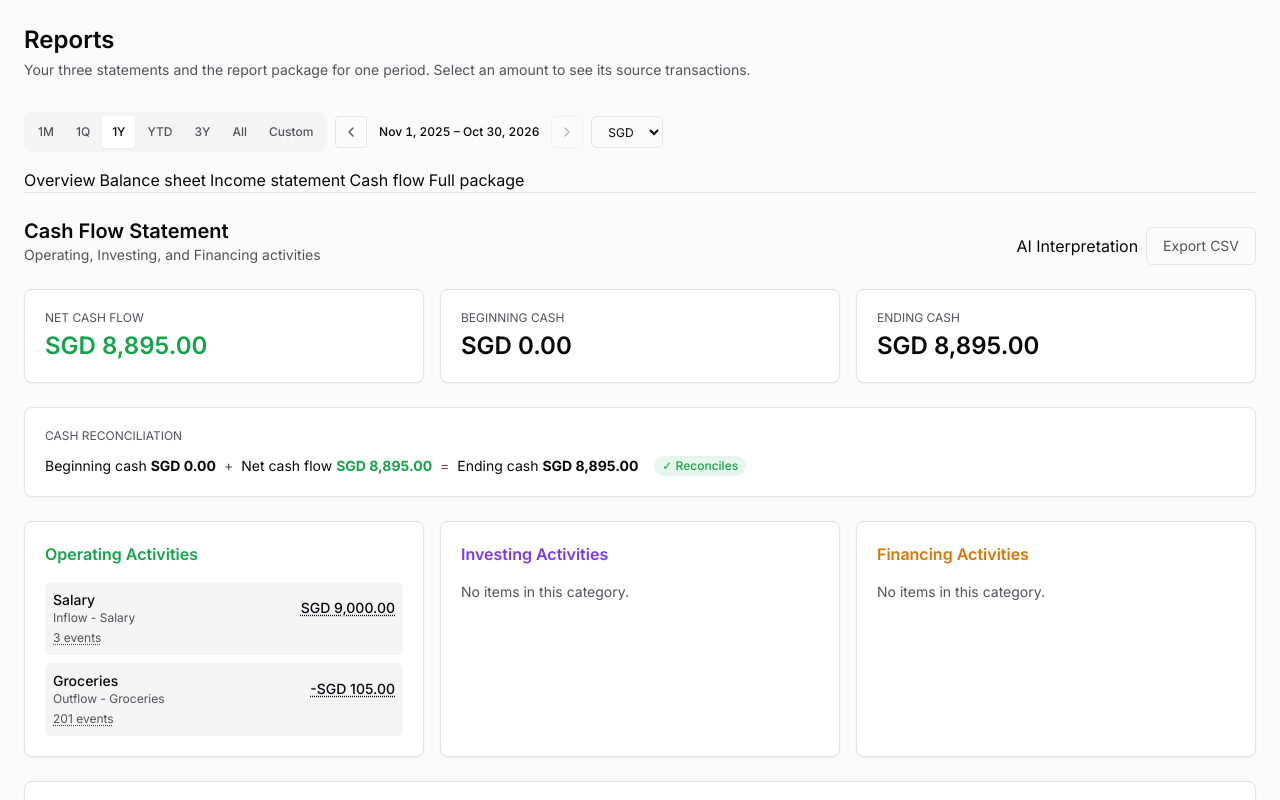
Test: CashFlowPage › AC-reporting.fe-fetch-budget.8 loads the events of a cash-flow line only after the user expands the line
The image size is (1280, 800).
Check: the button with aria-label "3 events for Inflow - Salary" reads "3 events", box top-left (53, 630), bottom-right (101, 646)
Check: the text "Salary" is shown, box top-left (53, 591), bottom-right (95, 608)
What coordinates should you click on to do the following:
click the button with aria-label "201 events for Outflow - Groceries"
I would click on:
 (83, 719)
Its box is top-left (53, 711), bottom-right (114, 727).
(page scrolled)
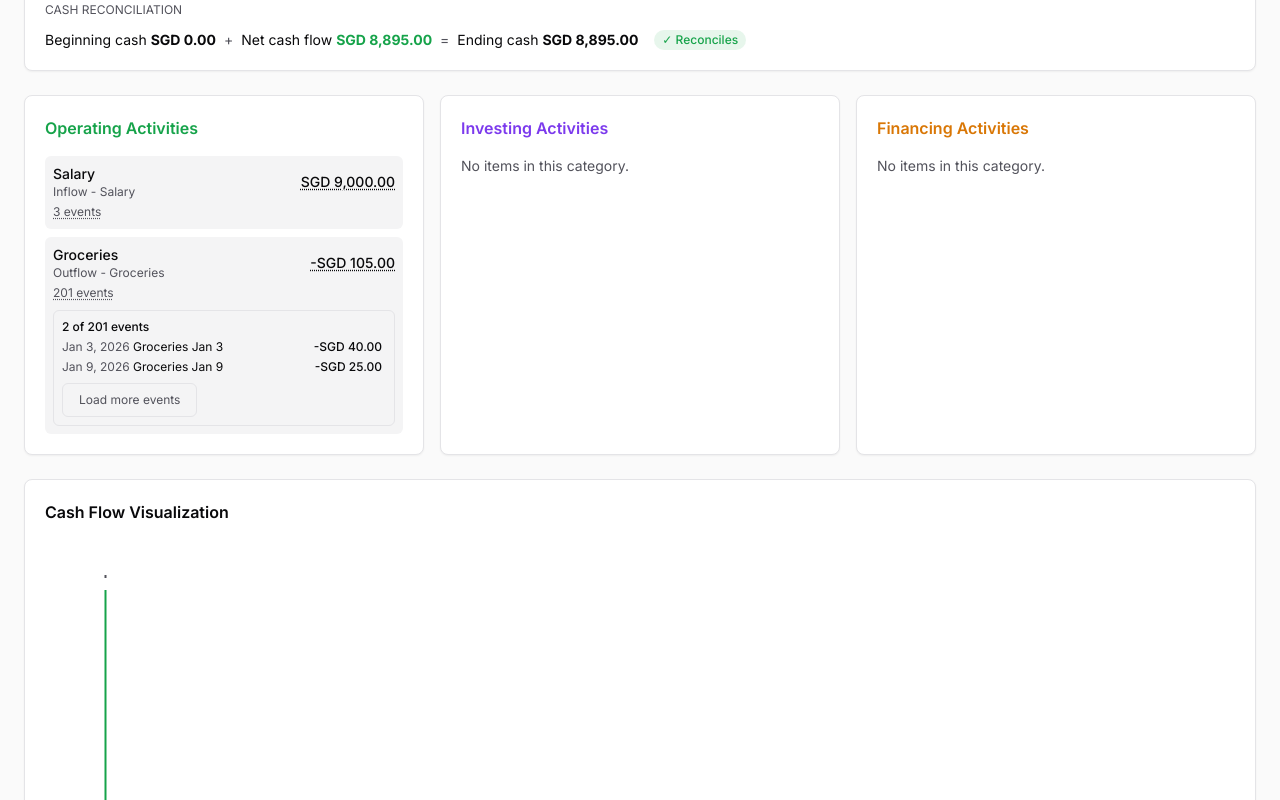
Check: the text "Groceries Jan 3" is shown, box top-left (133, 339), bottom-right (223, 354)
Check: the text "Groceries Jan 9" is shown, box top-left (133, 359), bottom-right (223, 374)
Check: the text "2 of 201 events" is shown, box top-left (62, 319), bottom-right (149, 334)
What coordinates should you click on to do the following:
click the button "Load more events"
I would click on:
 (130, 400)
Its box is top-left (62, 383), bottom-right (198, 417).
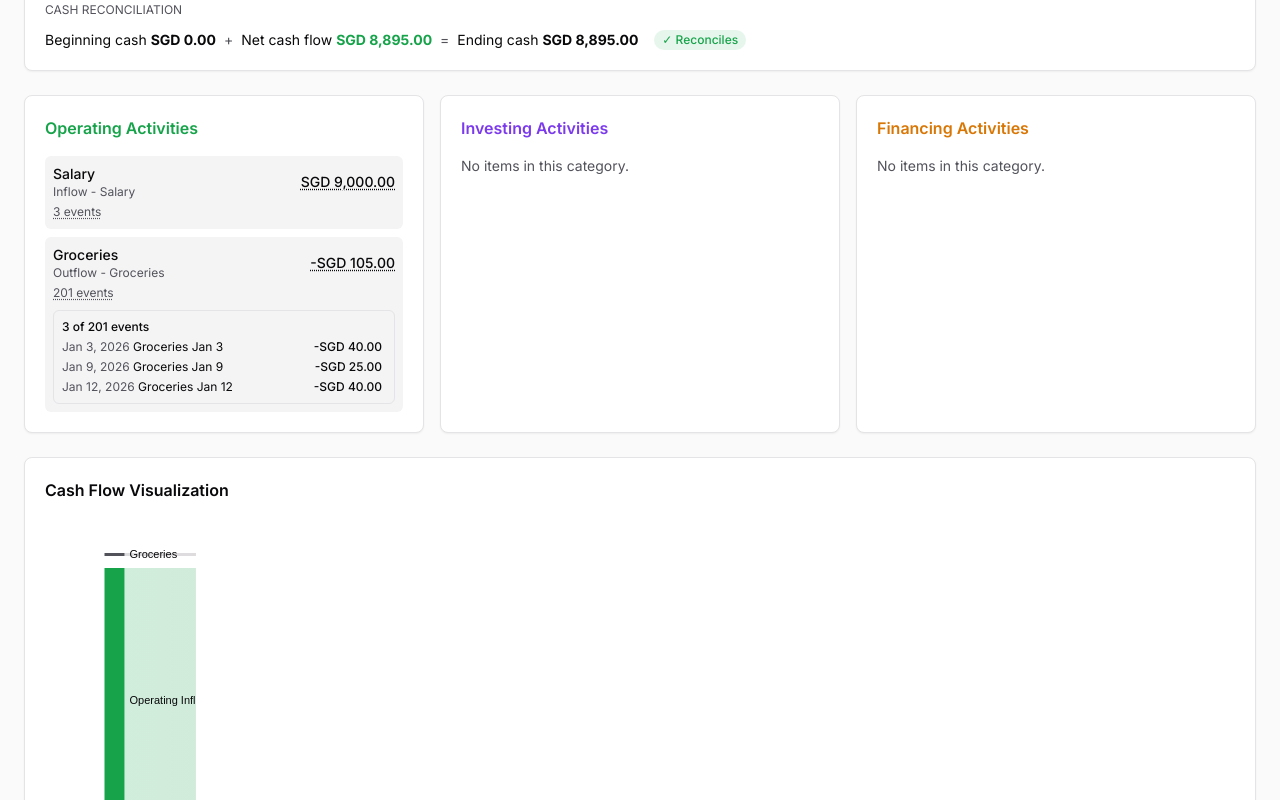
Check: the text "Groceries Jan 12" is shown, box top-left (138, 379), bottom-right (233, 394)
Check: the text "3 of 201 events" is shown, box top-left (62, 319), bottom-right (149, 334)
// Closing and opening the line again reads the cached pages without a request.
What coordinates should you click on to do the following:
click the button with aria-label "201 events for Outflow - Groceries"
I would click on:
 (83, 293)
Its box is top-left (53, 285), bottom-right (114, 301).
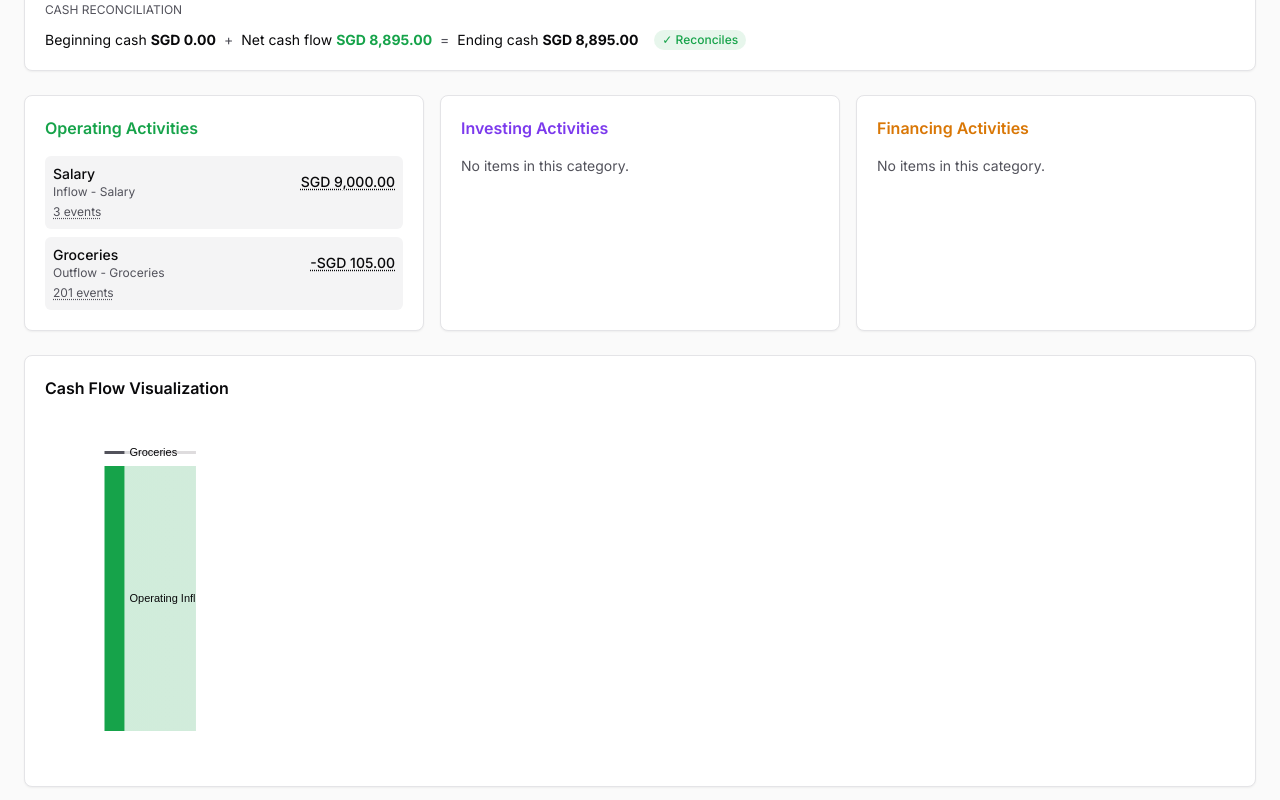
What coordinates should you click on to do the following:
click the button with aria-label "201 events for Outflow - Groceries"
I would click on:
 (83, 293)
Its box is top-left (53, 285), bottom-right (114, 301).
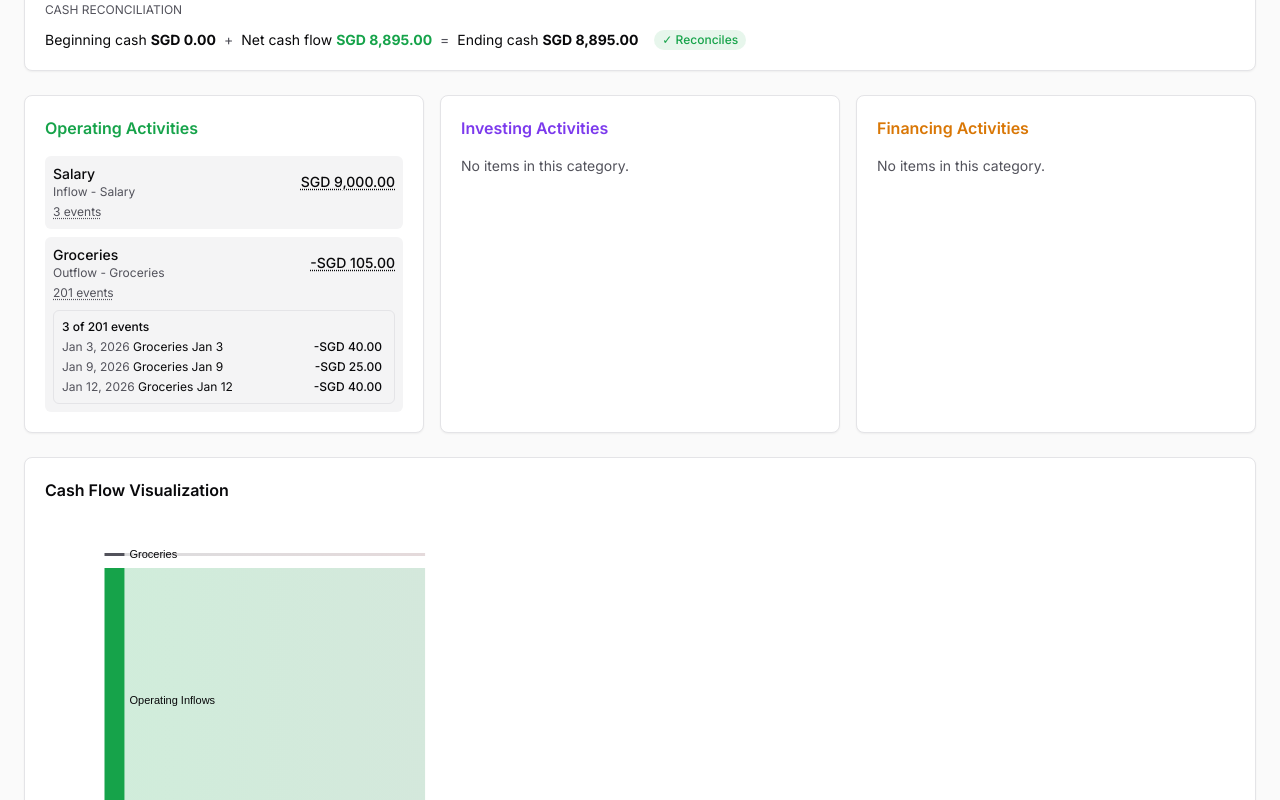
Check: the text "Groceries Jan 12" is shown, box top-left (138, 379), bottom-right (233, 394)
